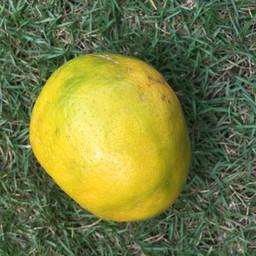Good_orange: (23, 35, 195, 229)
